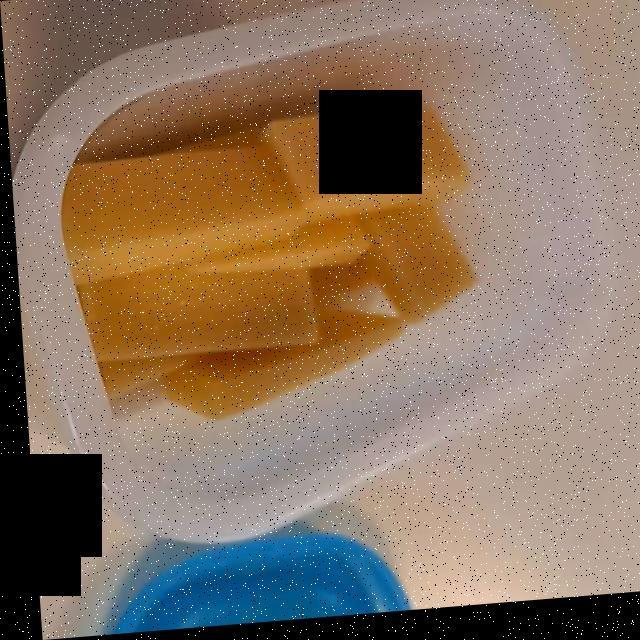gruyere: (67, 109, 461, 417)
